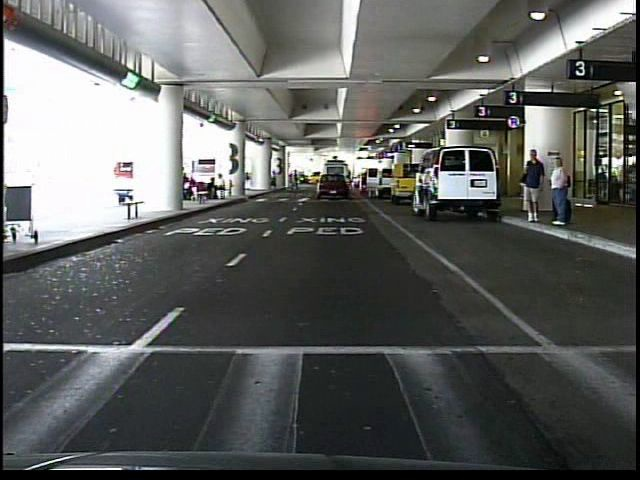person: (517, 146, 546, 227), (547, 153, 571, 229), (269, 168, 280, 192), (346, 170, 354, 193)
